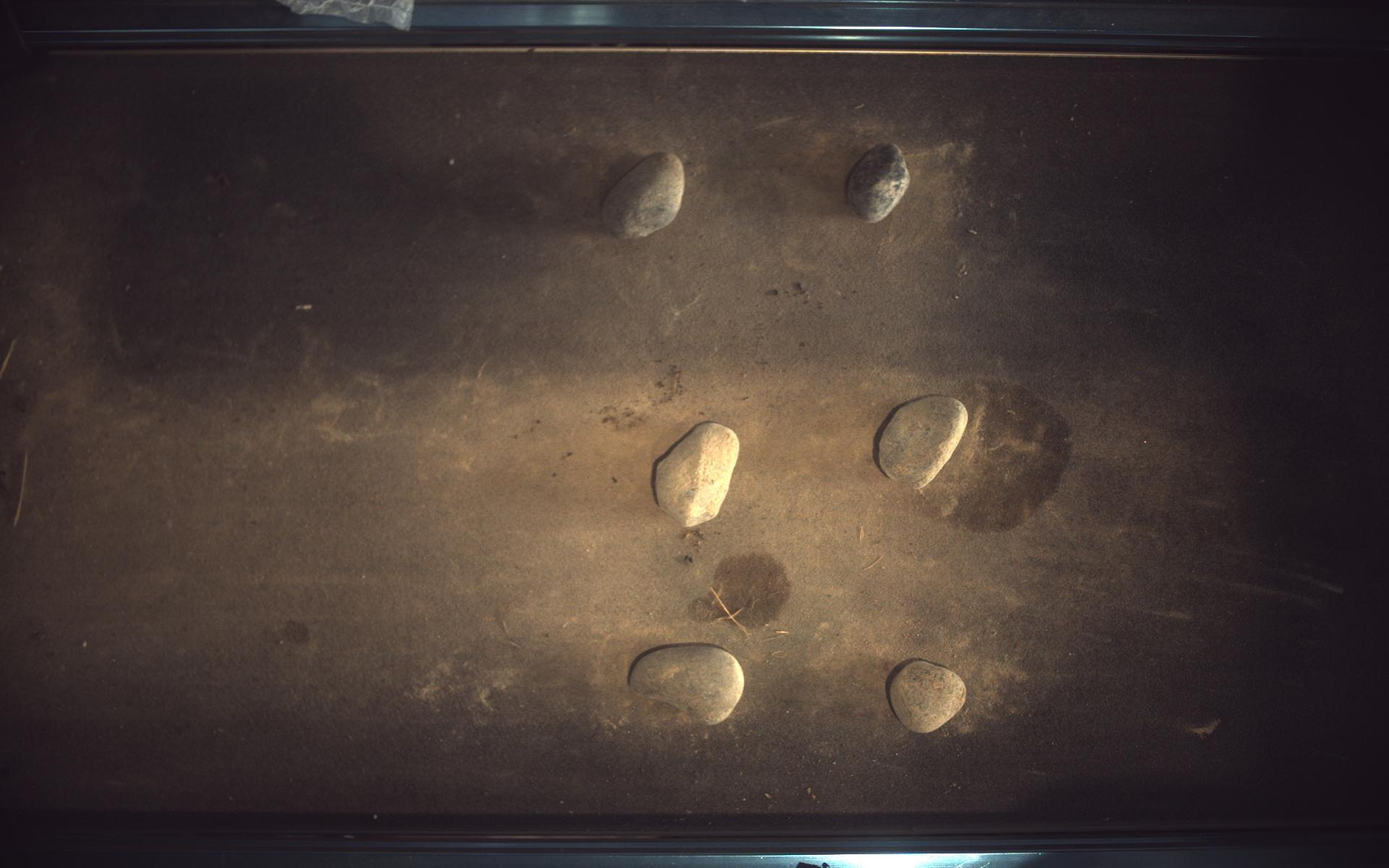stone: (630, 645, 744, 726), (656, 422, 741, 528), (880, 396, 969, 489), (603, 151, 686, 237), (891, 661, 968, 734), (848, 142, 912, 221)
